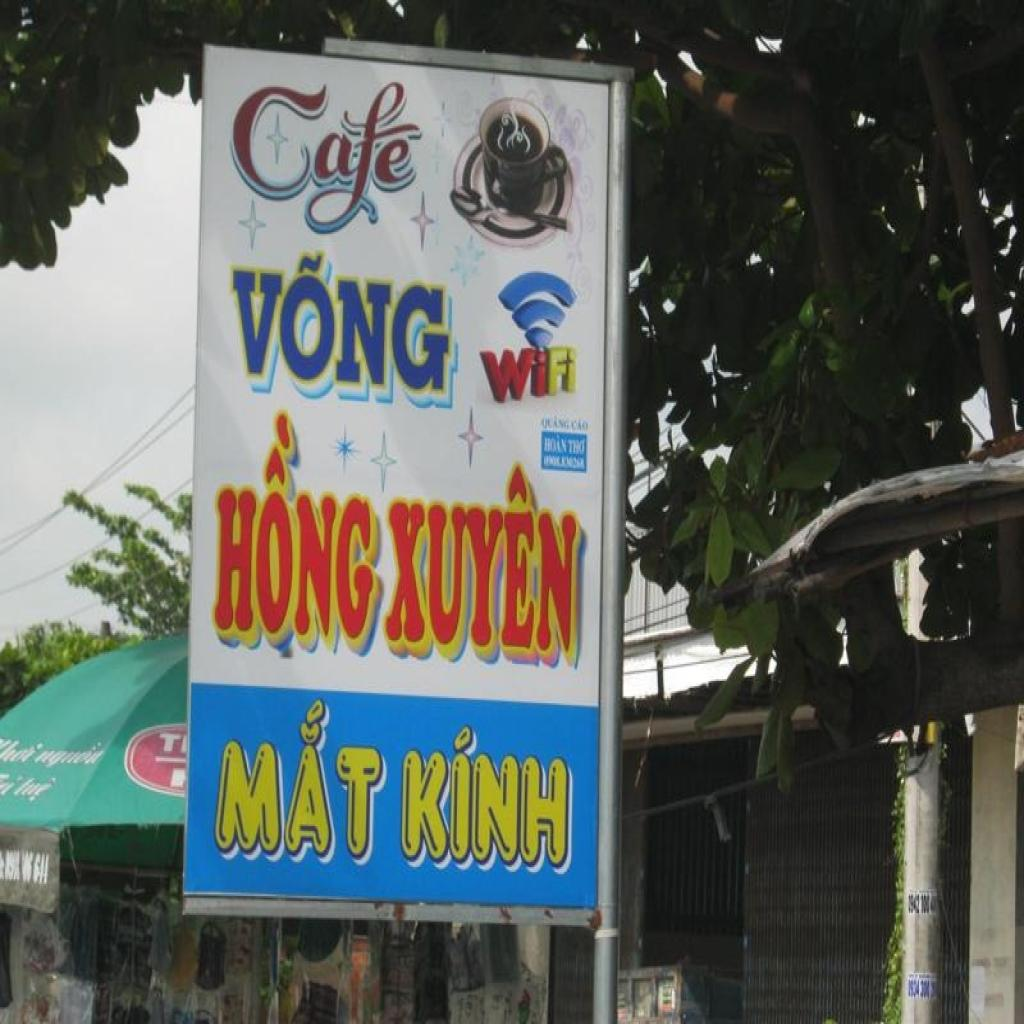text: (383, 426, 594, 682), (204, 410, 386, 672), (222, 242, 462, 418), (224, 72, 430, 256), (209, 683, 393, 882), (475, 334, 582, 414), (159, 729, 187, 758)
